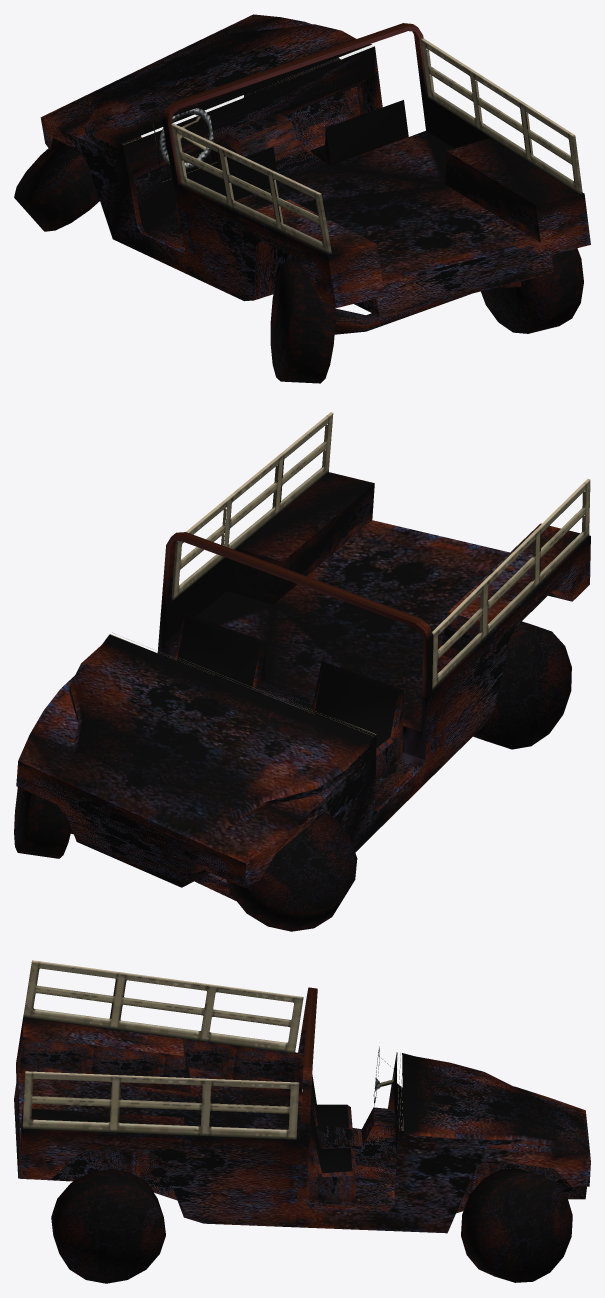
File: HumVeeWreck.glb
3 renders of one model, top to bottom at view 1: azimuth 30°, elevation 25°; view 2: azimuth 150°, elevation 25°; view 3: azimuth 270°, elevation 25°, orthographic. The views are drawn at different scales.
Visible parts, largest first — view 1: HUMVEEWRECK; view 2: HUMVEEWRECK; view 3: HUMVEEWRECK.
Boxes of the visible parts, x1,y1,x2,y2 form: HUMVEEWRECK: [14, 14, 590, 383]; HUMVEEWRECK: [14, 412, 590, 931]; HUMVEEWRECK: [14, 960, 590, 1283].
Bounding box in the file's own units: 3.31 × 2.2 × 5.5.
2 materials, 2 textured.
